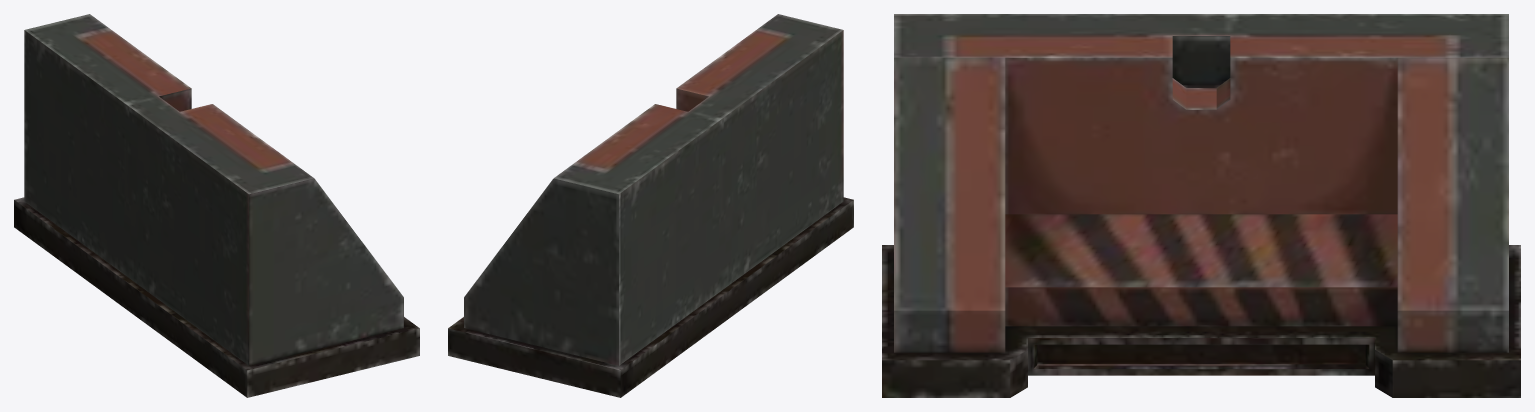
File: machine-base.gltf
3 renders of one model, left to right at view 1: azimuth 30°, elevation 25°; view 2: azimuth 150°, elevation 25°; view 3: azimuth 270°, elevation 25°, orthographic. The views are drawn at different scales.
Parts seen in each view (by area): view 1: Cube.026; view 2: Cube.026; view 3: Cube.026.
Boxes of the visible parts, x1,y1,x2,y2 form: Cube.026: [14, 14, 419, 397]; Cube.026: [448, 14, 853, 397]; Cube.026: [882, 14, 1520, 397].
Bounding box in the file's own units: 0.908 × 1 × 2.12.
1 material, 1 textured.
